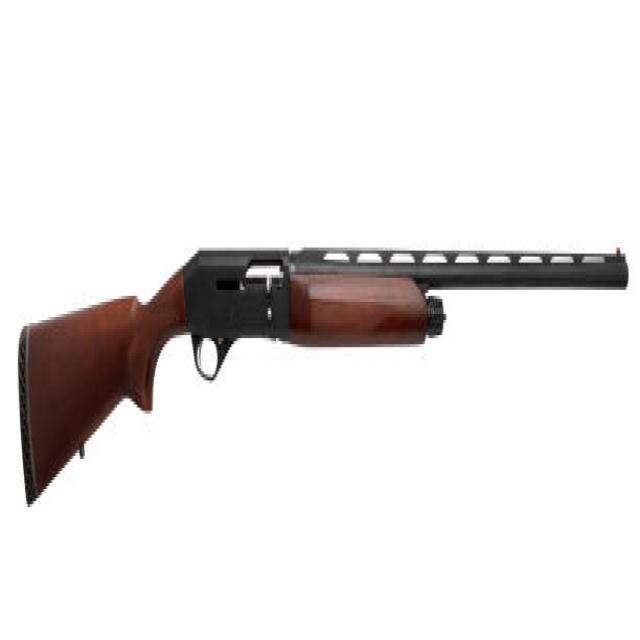rifle: (16, 222, 634, 520)
